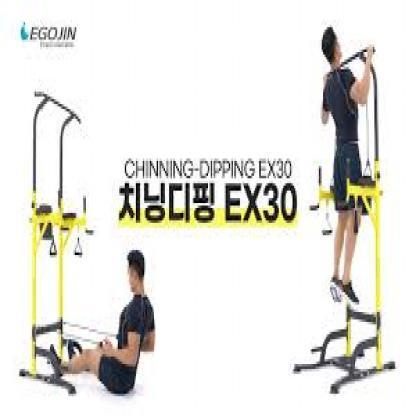chinning dipping: (300, 43, 396, 394), (20, 90, 94, 397)
